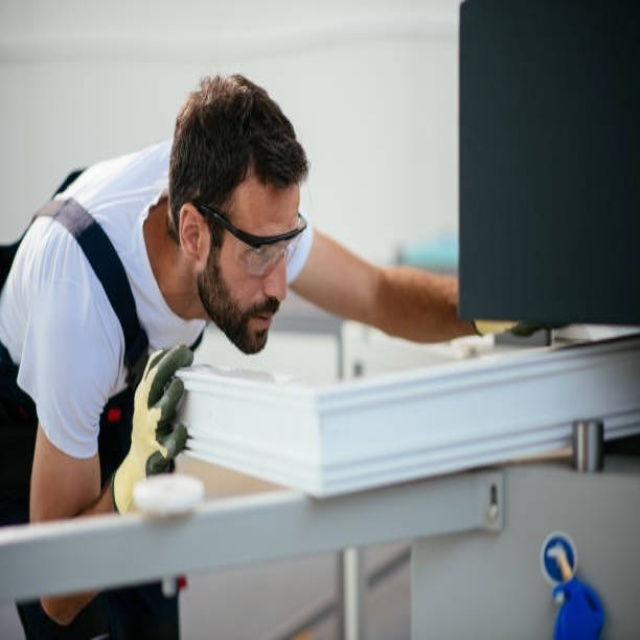Gafas: (192, 201, 307, 275)
Guantes: (108, 340, 197, 513)
Sin_mascara: (234, 300, 279, 348)
